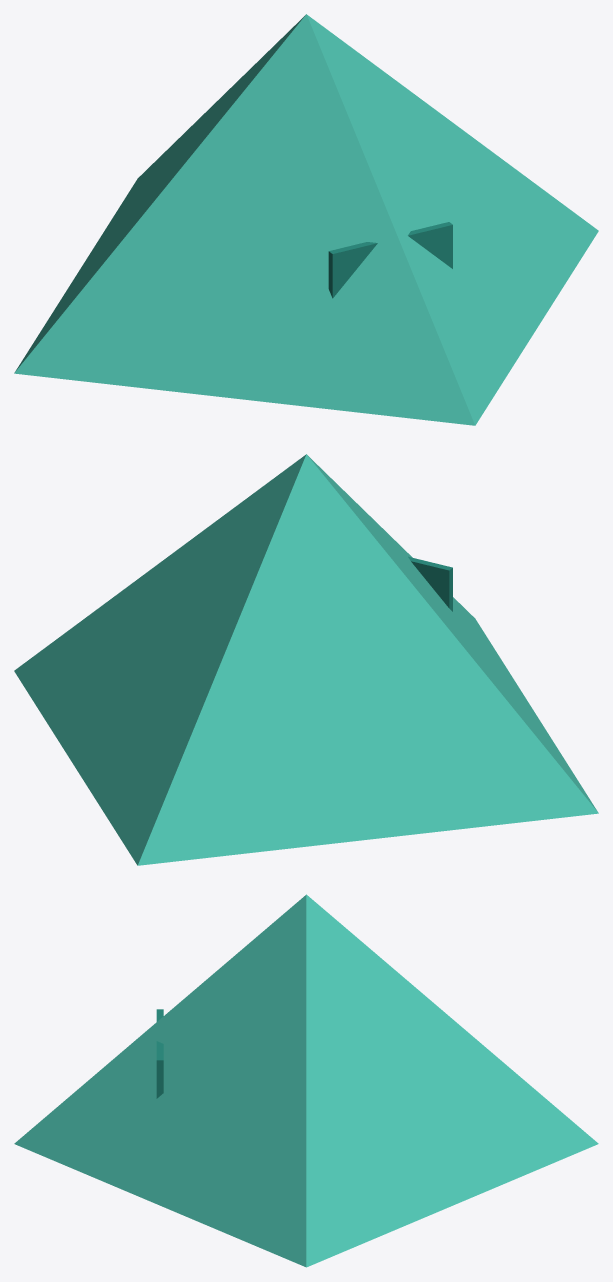
File: RockClimbing_Tent.fbx
The picture shows the model from 3 angles, top to bottom: view 1: azimuth 30°, elevation 25°; view 2: azimuth 150°, elevation 25°; view 3: azimuth 270°, elevation 25°; orthographic projection. The views are drawn at different scales.
Visible parts, largest first — view 1: Tent; view 2: Tent; view 3: Tent.
Part boxes in pixels (left/top/right/bottom): Tent: left=14, top=14, right=598, bottom=425; Tent: left=14, top=454, right=598, bottom=865; Tent: left=14, top=894, right=598, bottom=1267.
Bounding box in the file's own units: 3.4 × 1.6 × 3.4.
